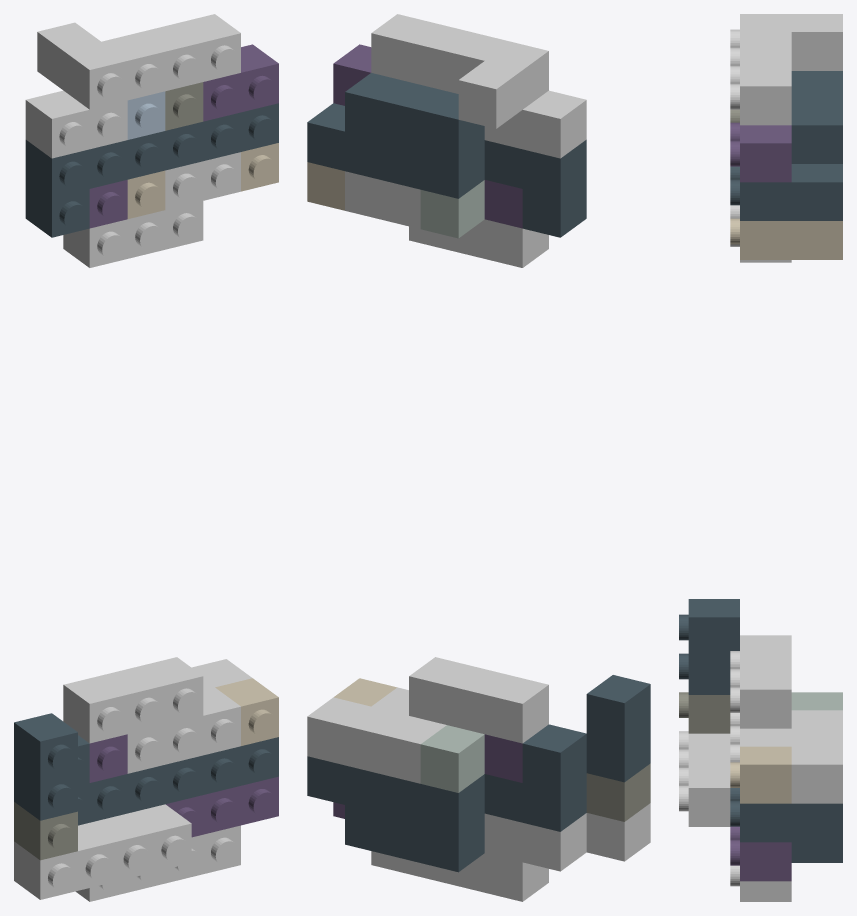
Rendered from full.glb.
3 renders of one model, left to right at view 1: azimuth 30°, elevation 25°; view 2: azimuth 150°, elevation 25°; view 3: azimuth 270°, elevation 25°, orthographic.
Parts seen in each view (by area): view 1: world; view 2: world; view 3: world.
Boxes of the visible parts, left/top/right/bottom form: world: left=14, top=14, right=278, bottom=901; world: left=307, top=14, right=650, bottom=901; world: left=679, top=14, right=842, bottom=901.
Size of the model in its own units: 56 by 168 by 30.6.
